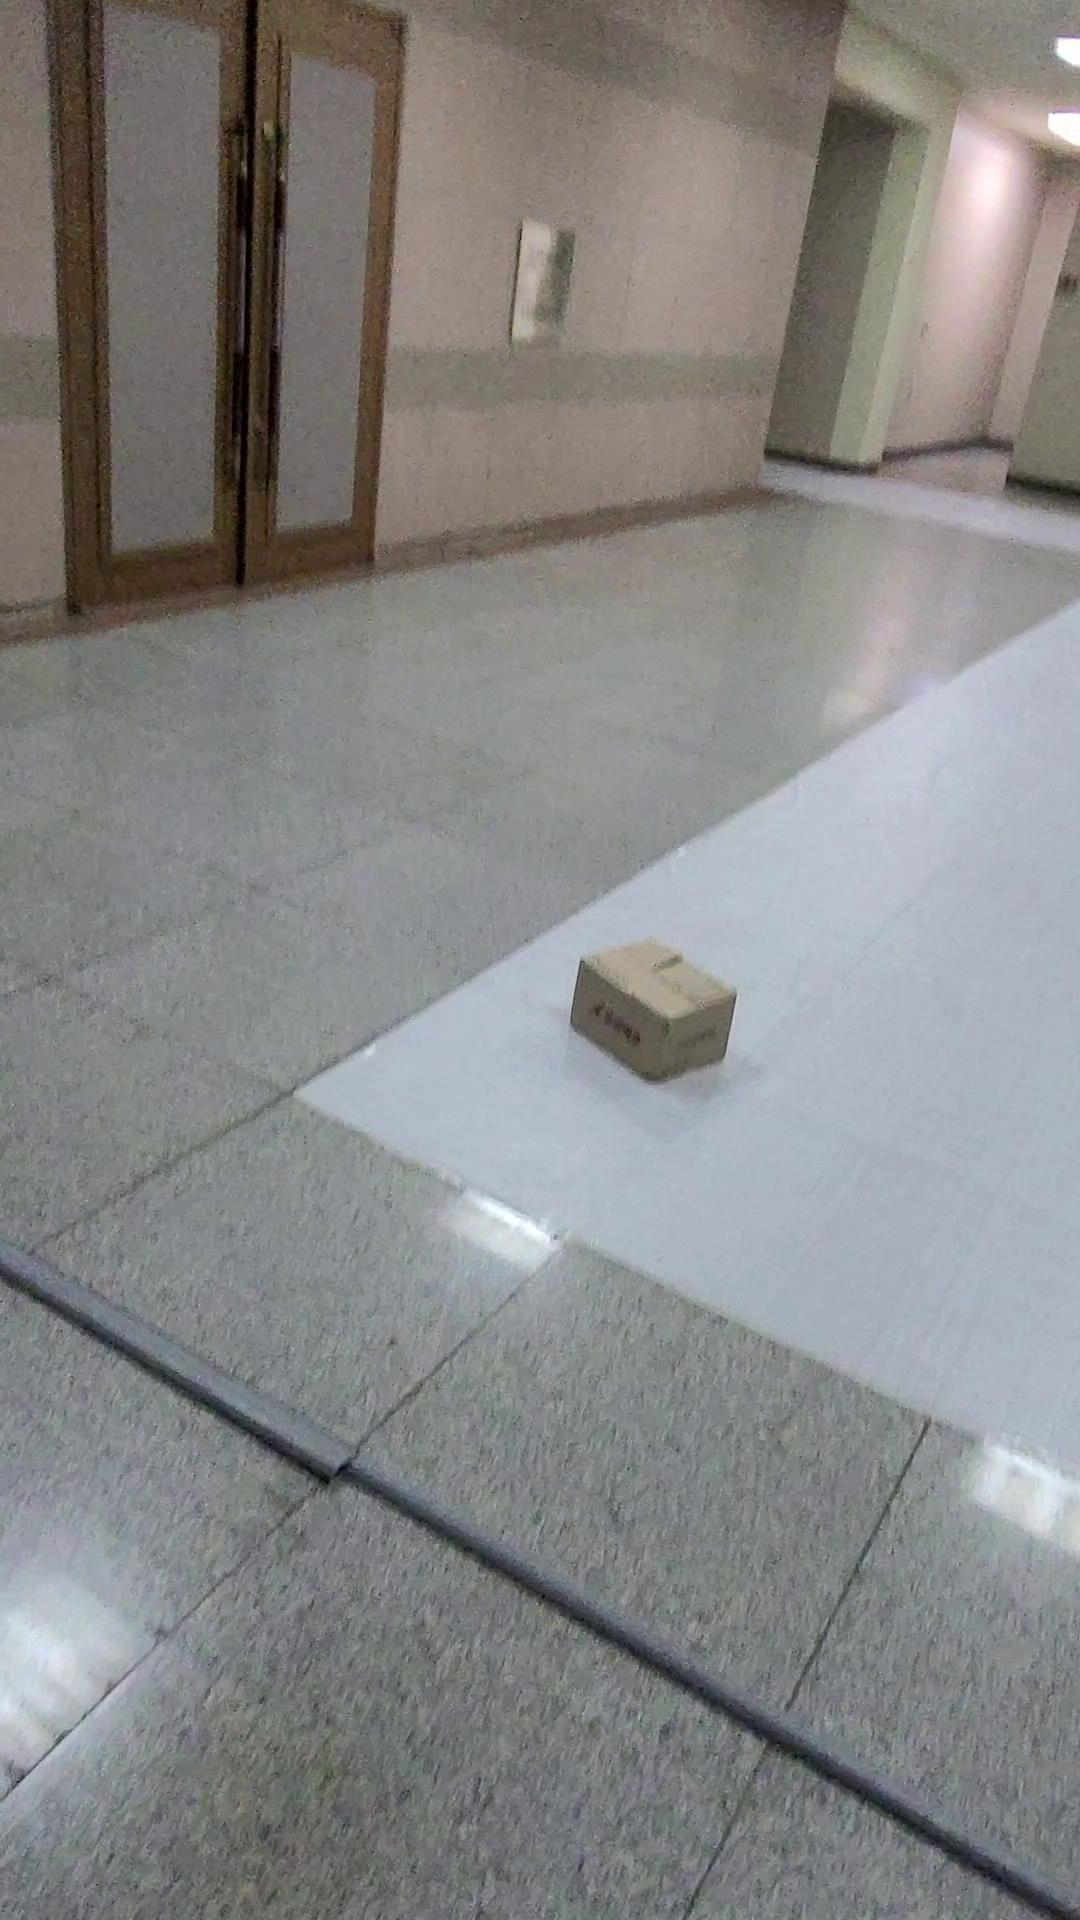Box: (553, 930, 757, 1091)
